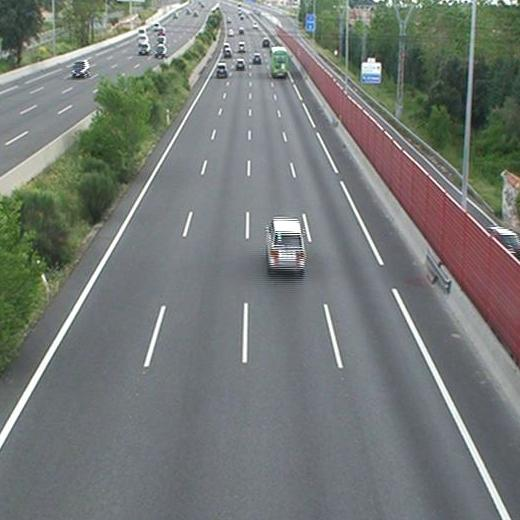bus: (271, 47, 287, 78)
car: (265, 219, 305, 270), (216, 63, 227, 75), (252, 53, 262, 63), (235, 59, 245, 69), (237, 42, 246, 53), (261, 39, 269, 48), (223, 49, 231, 56)
